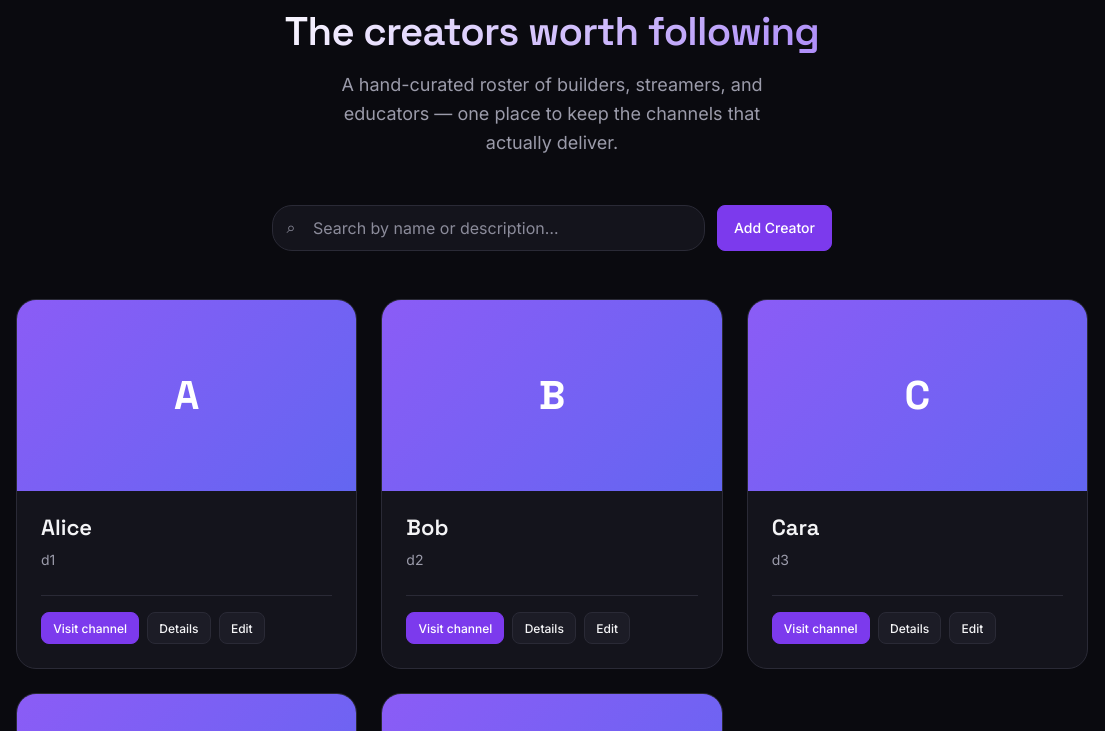
Scenario: ShowCreators › homepage_search_filters
Expected: the heading "Alice" is shown, [41,513,92,541]
In the search field named "search creators": (488, 228) [272,205,705,251], type "bob"
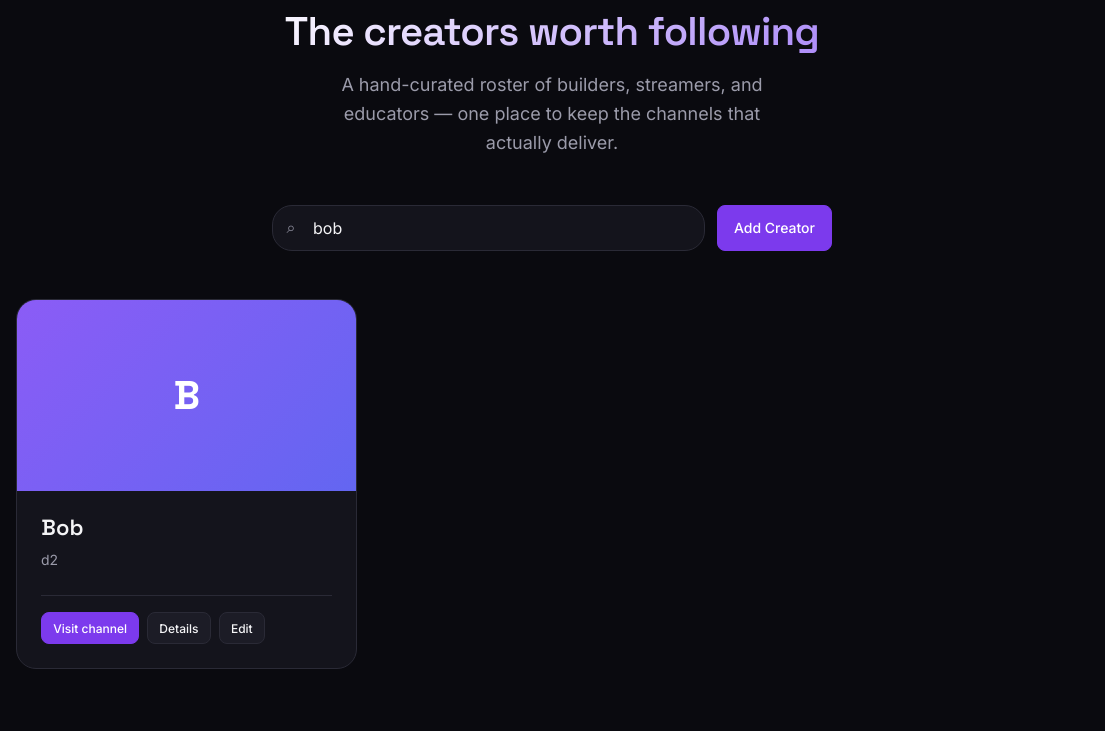
Expected: the heading "Bob" is shown, [41,513,83,541]
Expected: the heading "Alice" is gone
